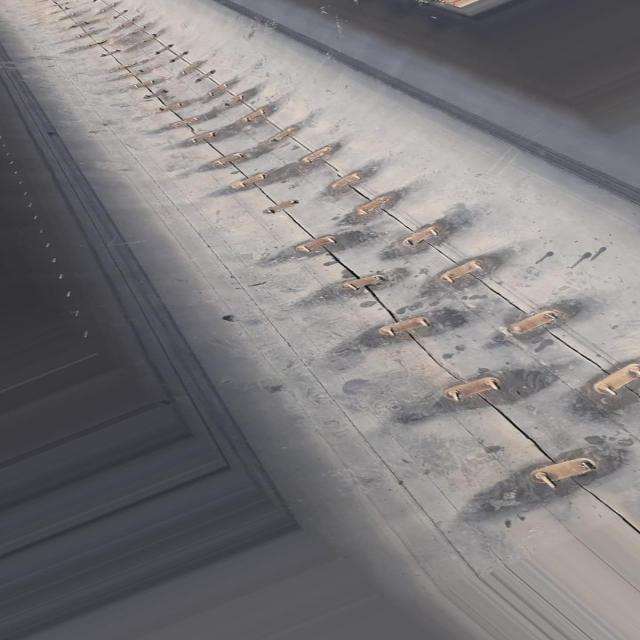patch work: (29, 0, 639, 538)
